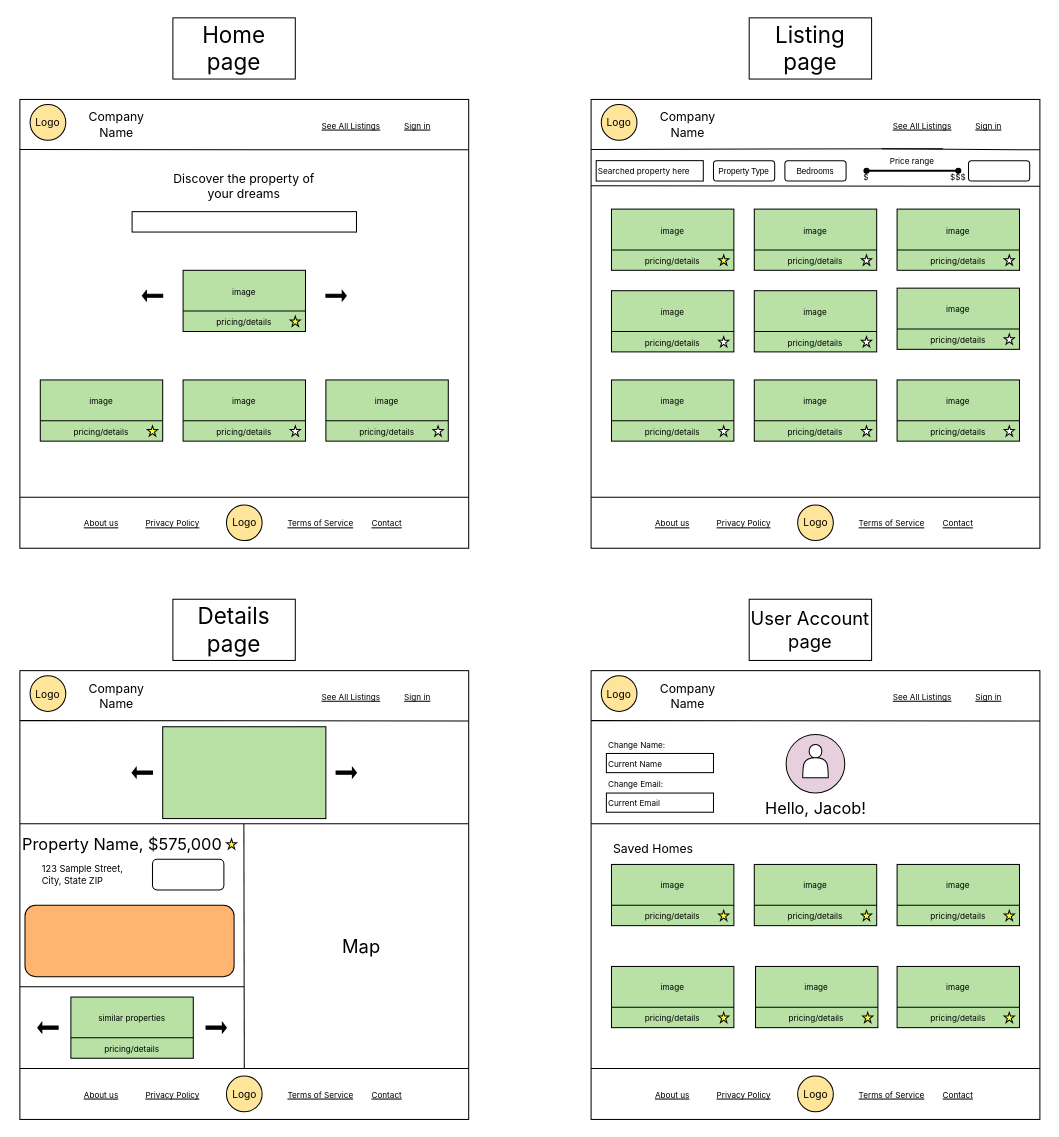
The diagram is 1059 pixels wide and 1137 high, and some of its shapes have lost their labels. The centre of each missing label's shape, as x and y in pixels:
Contact Agent: pixel 187 874
Enter an address, neighborhood, city, or ZIP code: pixel 243 221
Misc.: pixel 998 170
Property Details: pixel 129 940
Property Images: pixel 244 772
